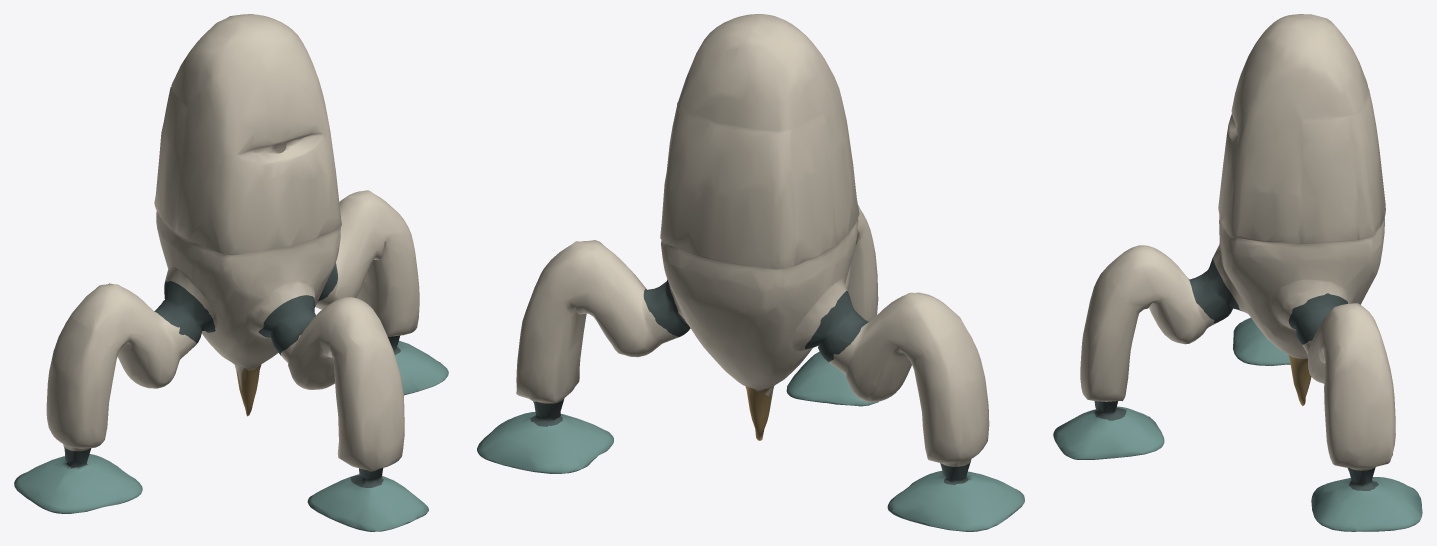
Rendered from surveyor.glb.
3 views of the same model, side by side, from view 1: azimuth 30°, elevation 25°; view 2: azimuth 150°, elevation 25°; view 3: azimuth 270°, elevation 25° (orthographic). The views are drawn at different scales.
Parts seen in each view (by area): view 1: surveyor; view 2: surveyor; view 3: surveyor.
Boxes of the visible parts, x1,y1,x2,y2 form: surveyor: [14, 14, 448, 531]; surveyor: [477, 14, 1024, 531]; surveyor: [1053, 14, 1422, 531].
Size of the model in its own units: 2.47 by 2.22 by 1.81.
